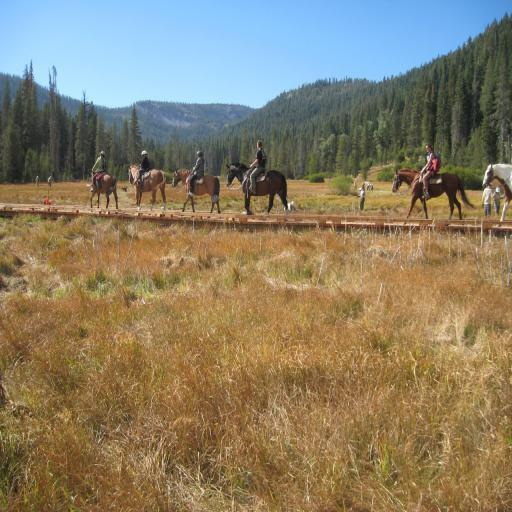horse: (390, 166, 478, 226), (226, 162, 290, 222), (172, 164, 221, 216), (128, 162, 166, 215), (481, 164, 512, 226), (90, 172, 118, 210)
